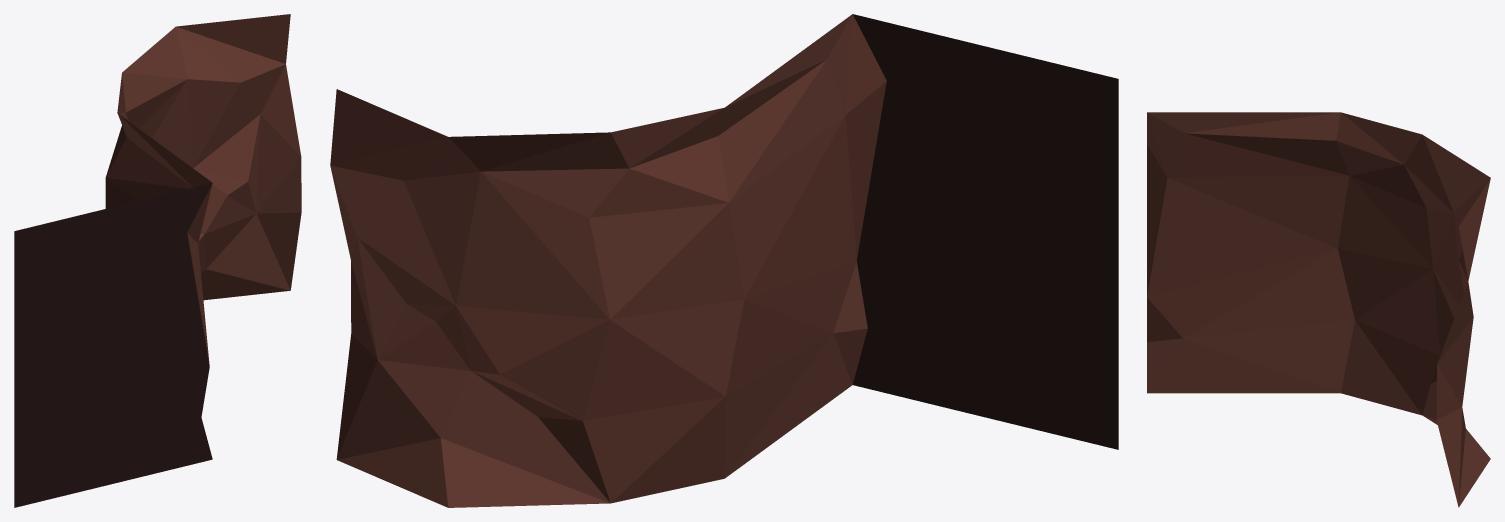
File: Block_MID_LEFT.fbx
3 views of the same model, side by side, from view 1: azimuth 30°, elevation 25°; view 2: azimuth 150°, elevation 25°; view 3: azimuth 270°, elevation 25° (orthographic). The views are drawn at different scales.
Visible parts, largest first — view 1: Block_MID_LEFT; view 2: Block_MID_LEFT; view 3: Block_MID_LEFT.
Part boxes in pixels (box(x1,y1,x2,y2)): Block_MID_LEFT: box(14, 14, 301, 507); Block_MID_LEFT: box(330, 14, 1118, 507); Block_MID_LEFT: box(1147, 112, 1490, 507).
Size of the model in its own units: 13 by 8 by 8.87.
